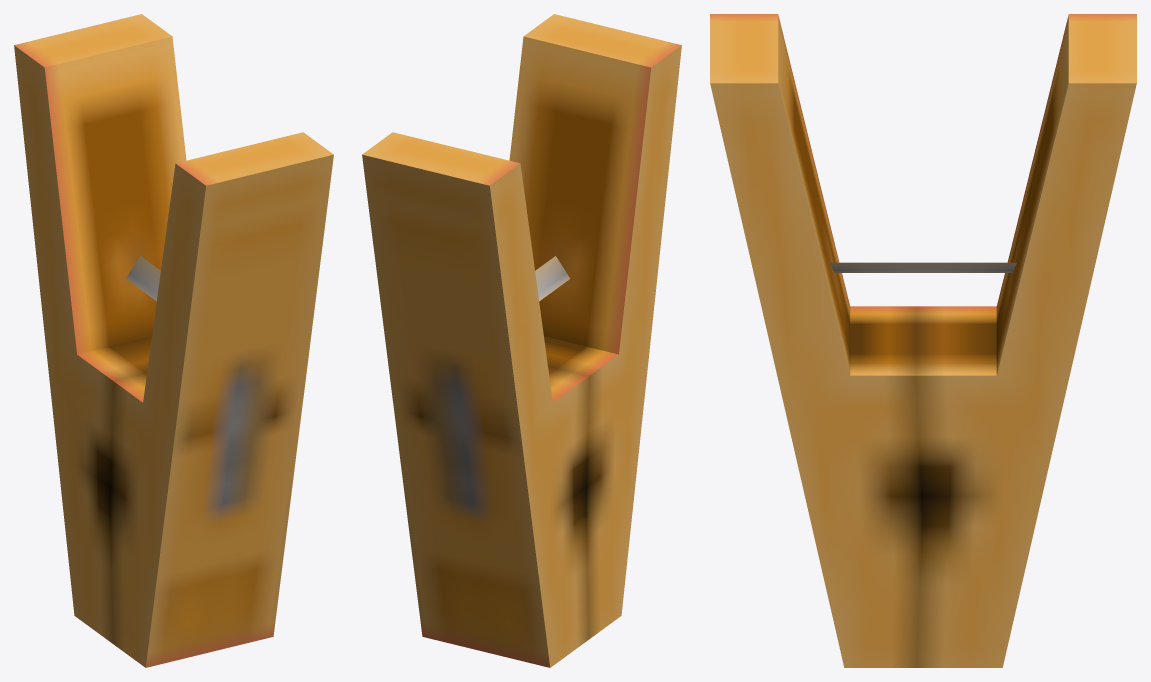
Rendered from jsf_Clothespin_02.fbx.
3 views of the same model, side by side, from view 1: azimuth 30°, elevation 25°; view 2: azimuth 150°, elevation 25°; view 3: azimuth 270°, elevation 25° (orthographic). The views are drawn at different scales.
Visible parts, largest first — view 1: jsf_Clothespin_02; view 2: jsf_Clothespin_02; view 3: jsf_Clothespin_02.
Boxes of the visible parts, left/top/right/bottom form: jsf_Clothespin_02: left=14, top=14, right=333, bottom=667; jsf_Clothespin_02: left=362, top=14, right=681, bottom=667; jsf_Clothespin_02: left=710, top=14, right=1136, bottom=667.
Size of the model in its own units: 1.65 by 6.5 by 4.3.
